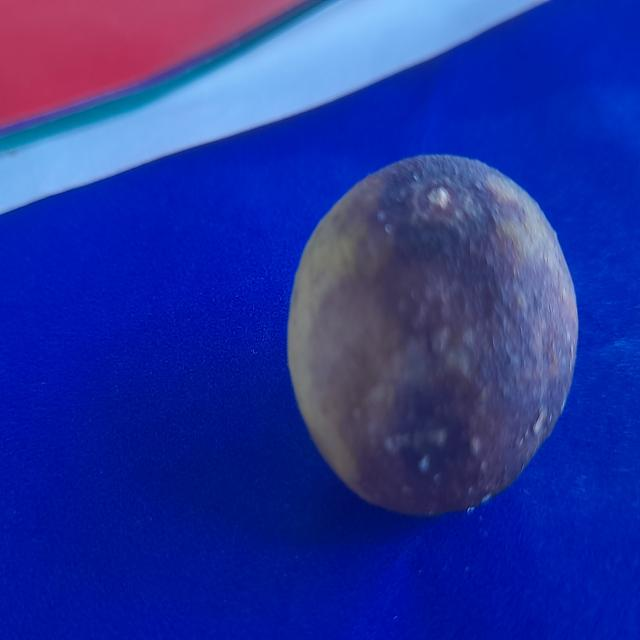black spot: (286, 132, 581, 530)
